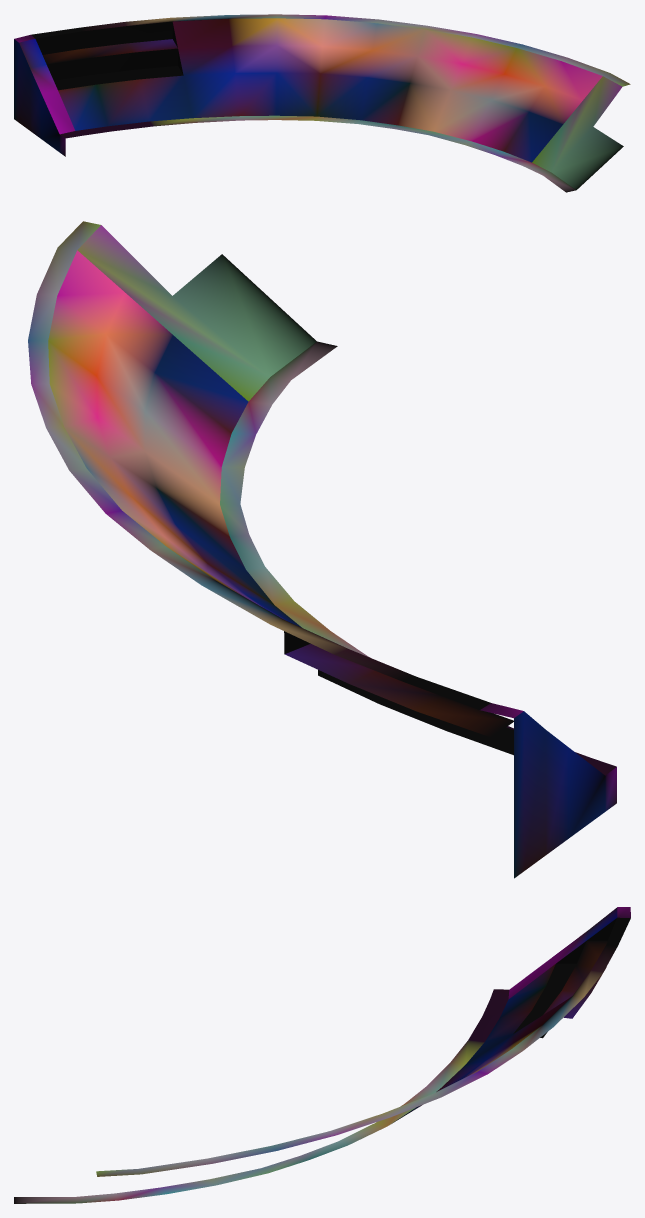
The model's file is CHN_StadiumSeats02.gltf.
3 renders of one model, top to bottom at view 1: azimuth 30°, elevation 25°; view 2: azimuth 150°, elevation 25°; view 3: azimuth 270°, elevation 25°, orthographic. The views are drawn at different scales.
Parts seen in each view (by area): view 1: CHN_StadiumSeats02; view 2: CHN_StadiumSeats02; view 3: CHN_StadiumSeats02.
Boxes of the visible parts, x1,y1,x2,y2 form: CHN_StadiumSeats02: [14, 14, 630, 192]; CHN_StadiumSeats02: [28, 221, 616, 878]; CHN_StadiumSeats02: [14, 907, 630, 1203].
Size of the model in its own units: 131 by 24.04 by 126.
